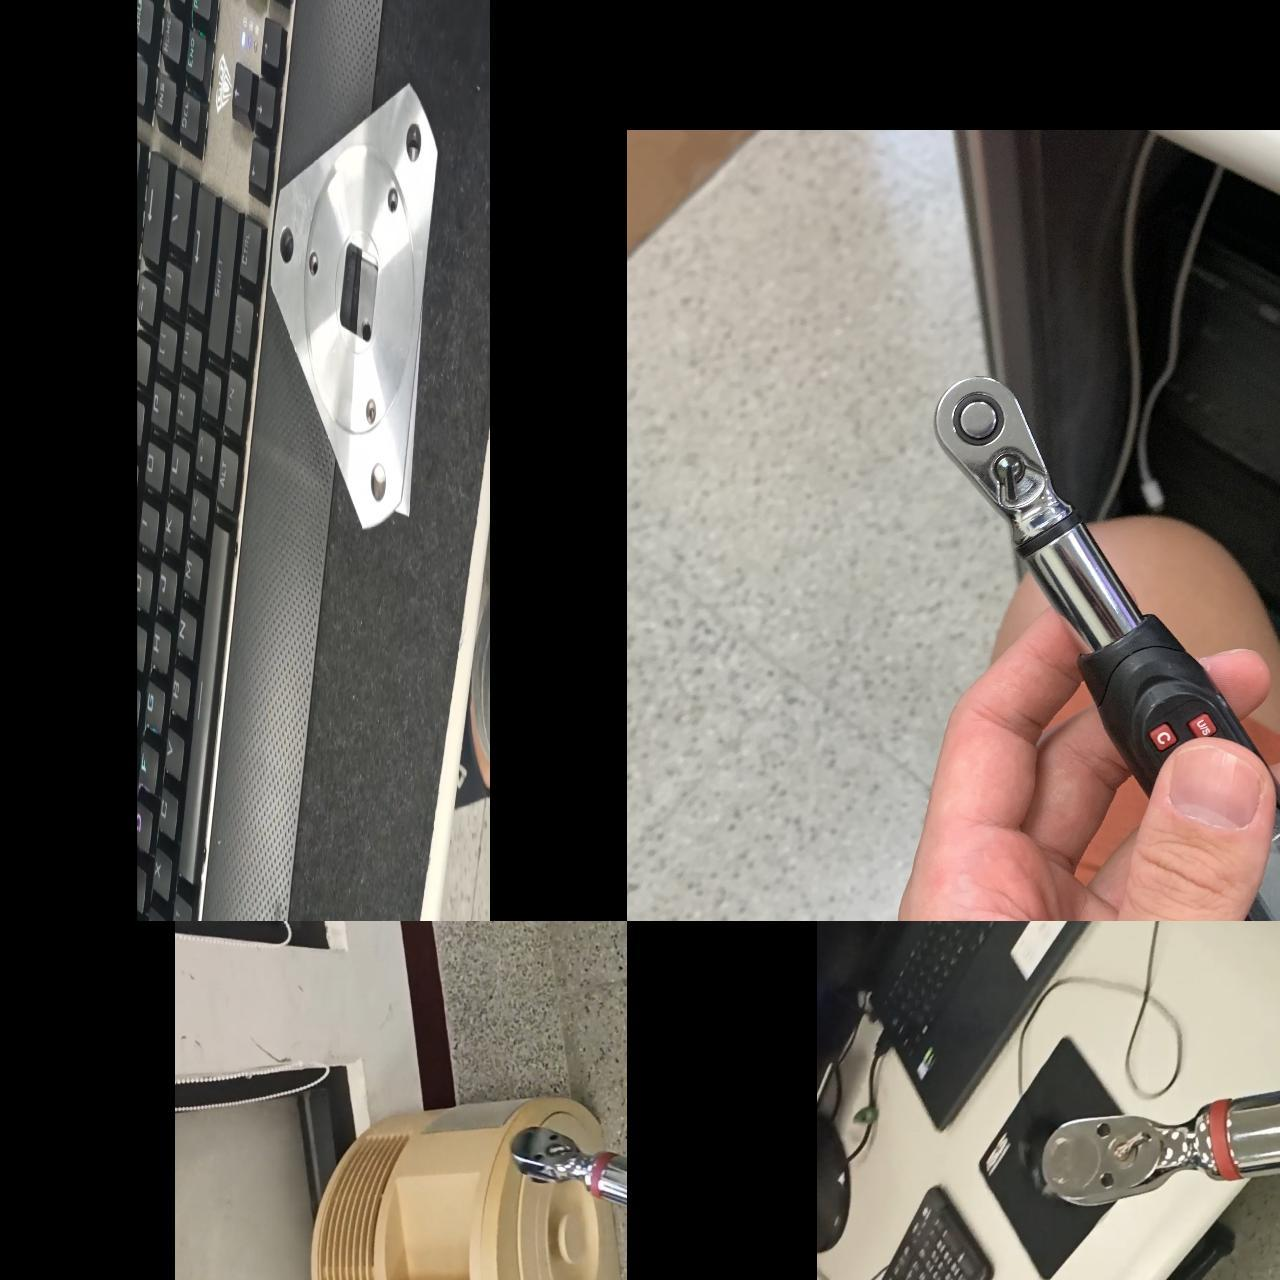Tool: (935, 370, 1071, 530), (1044, 1096, 1228, 1208)
